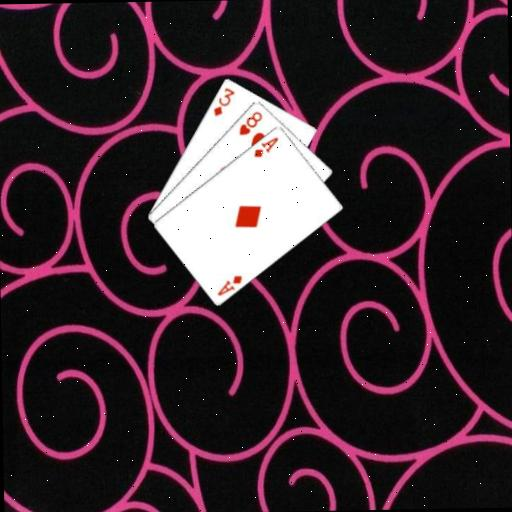3D: (210, 85, 237, 118)
8H: (236, 108, 264, 136)
AD: (251, 133, 281, 159), (215, 272, 244, 298)
